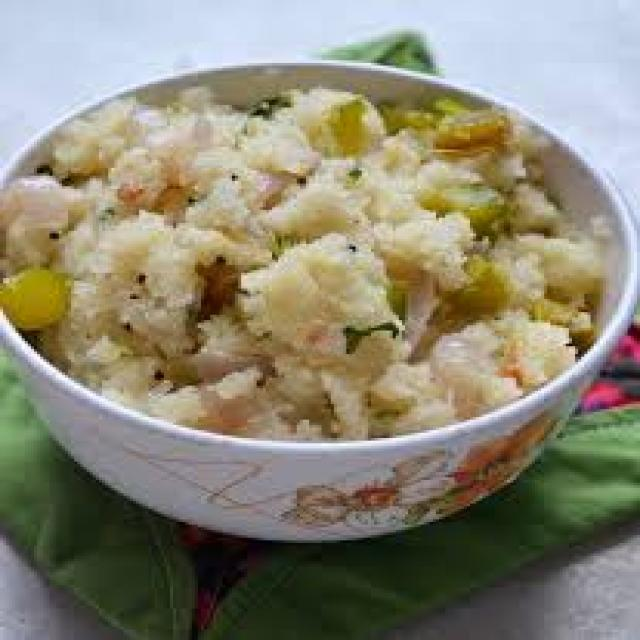UPMA: (0, 84, 606, 435)
